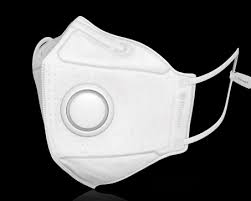mask: (42, 27, 188, 174)
